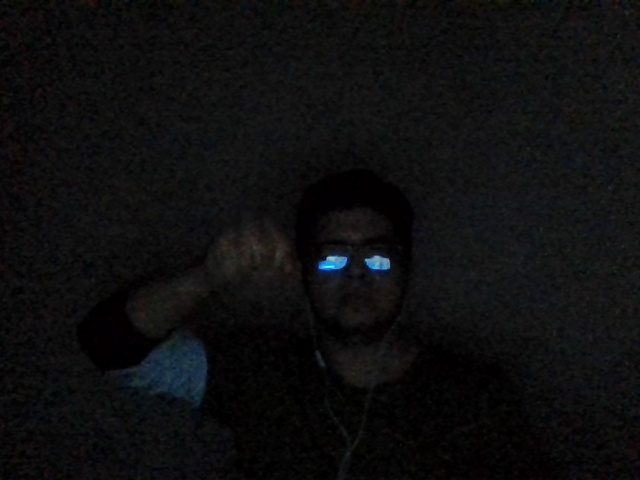Yes: (197, 201, 297, 303)
